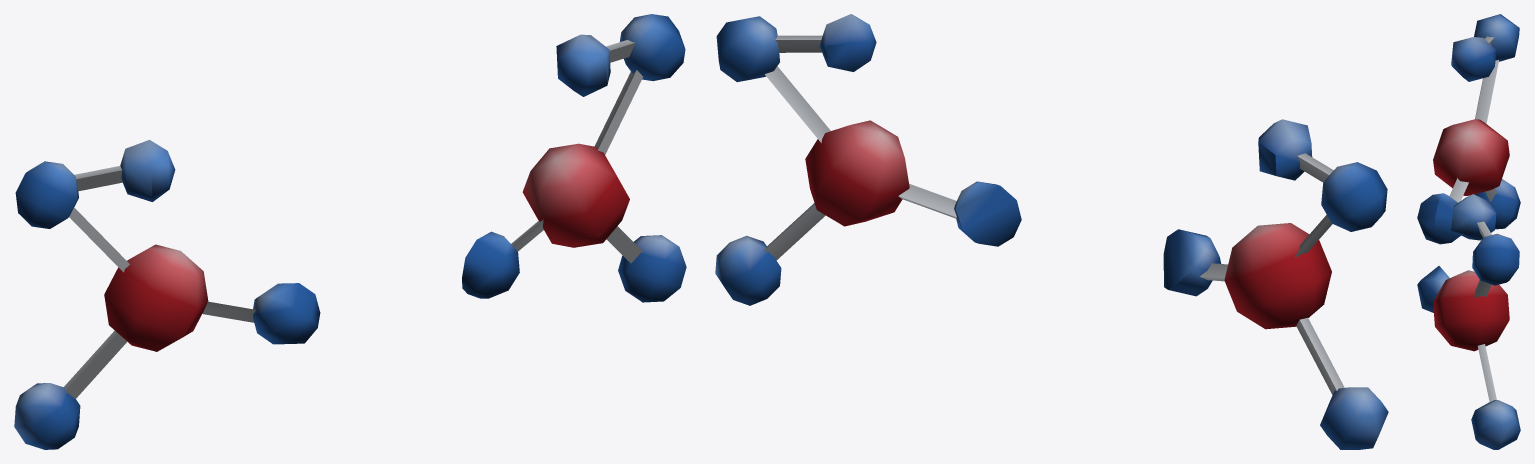
Rendered from hat_premium_Molecules.glb.
The picture shows the model from 3 angles, left to right: view 1: azimuth 30°, elevation 25°; view 2: azimuth 150°, elevation 25°; view 3: azimuth 270°, elevation 25°; orthographic projection. The views are drawn at different scales.
Visible parts, largest first — view 1: hat_premium_Molecules; view 2: hat_premium_Molecules; view 3: hat_premium_Molecules.
Part boxes in pixels (x1=…): hat_premium_Molecules: x1=14, y1=14, x2=686, y2=449; hat_premium_Molecules: x1=715, y1=14, x2=1388, y2=449; hat_premium_Molecules: x1=1417, y1=14, x2=1520, y2=449.
Bounding box in the file's own units: 0.8952 × 0.3842 × 0.162.
